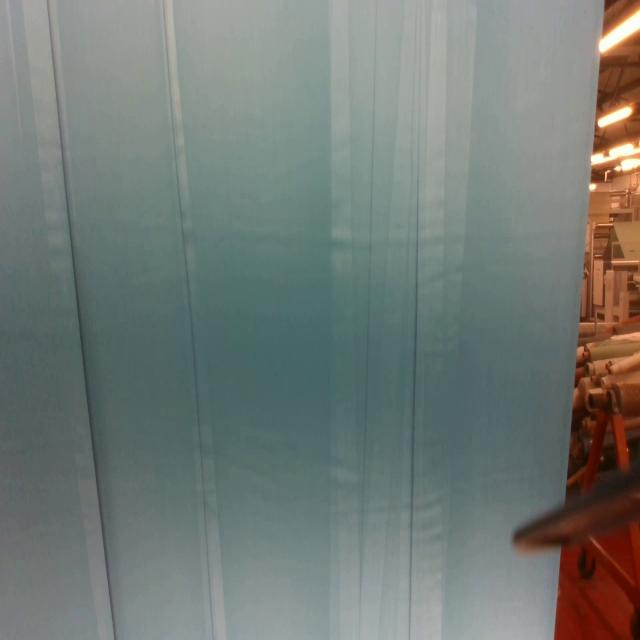crease: (46, 0, 118, 640), (162, 0, 216, 640), (357, 0, 381, 640), (406, 1, 424, 640)
